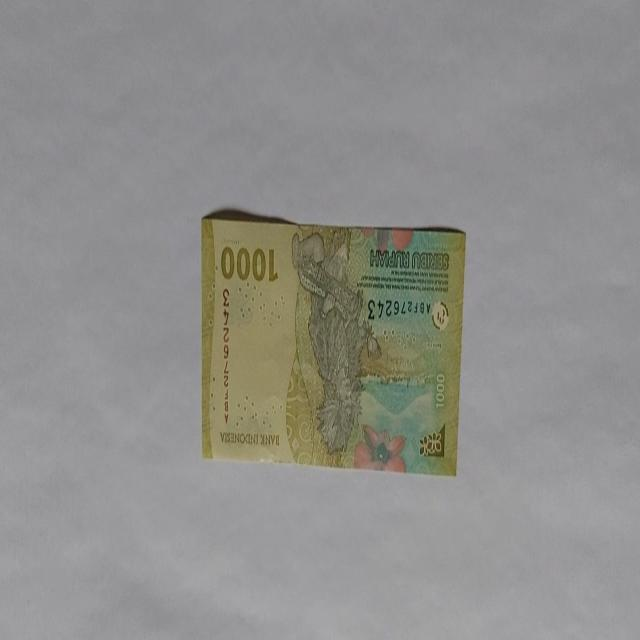seribu rupiah kertas: (199, 212, 466, 476)
